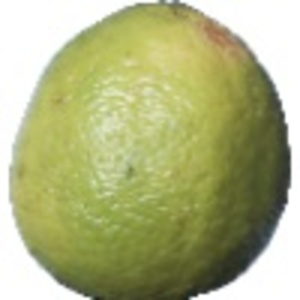limão: (8, 1, 291, 300)
